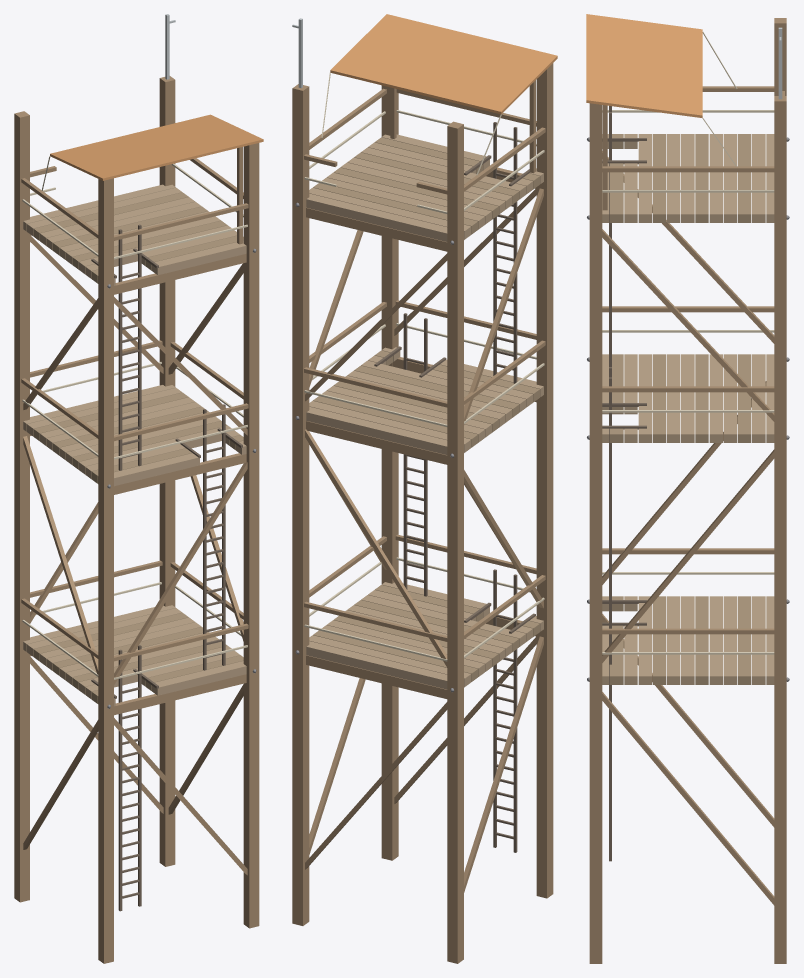
File: old_lookout.glb
3 views of the same model, side by side, from view 1: azimuth 30°, elevation 25°; view 2: azimuth 150°, elevation 25°; view 3: azimuth 270°, elevation 25° (orthographic). The views are drawn at different scales.
Parts seen in each view (by area): view 1: ol_tower_mesh; view 2: ol_tower_mesh; view 3: ol_tower_mesh.
Part boxes in pixels (x1=…): ol_tower_mesh: x1=14, y1=14, x2=263, y2=963; ol_tower_mesh: x1=292, y1=14, x2=557, y2=963; ol_tower_mesh: x1=586, y1=14, x2=789, y2=963.
Bounding box in the file's own units: 4.22 × 21.2 × 4.19.
